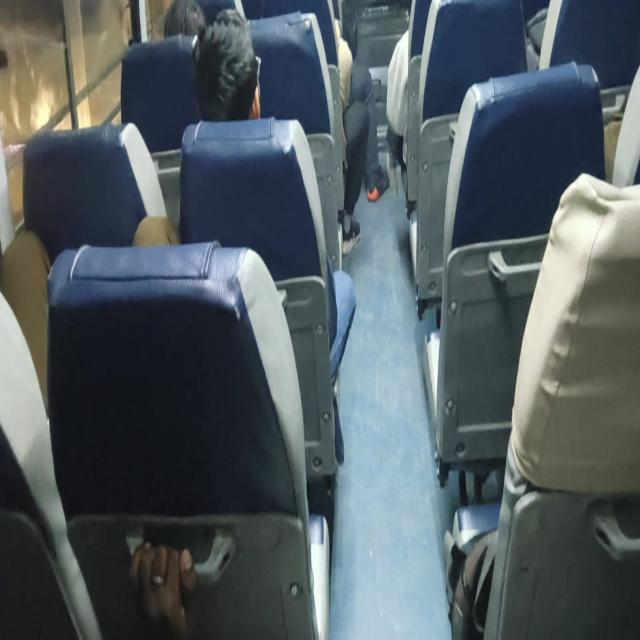person: (133, 7, 356, 464), (241, 0, 389, 255), (132, 7, 262, 247), (191, 7, 261, 121), (128, 540, 198, 636), (163, 0, 207, 38)
